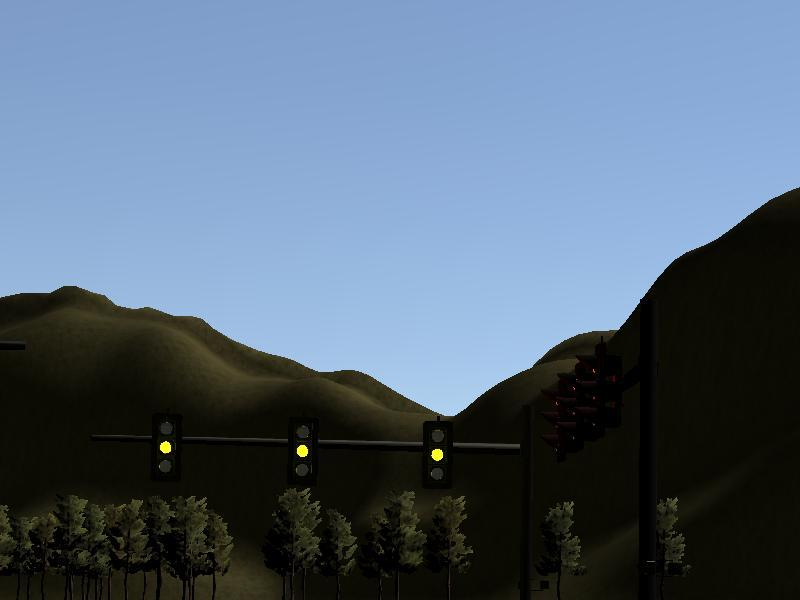Yellow: (287, 417, 317, 483), (423, 422, 452, 488), (152, 416, 181, 480)
